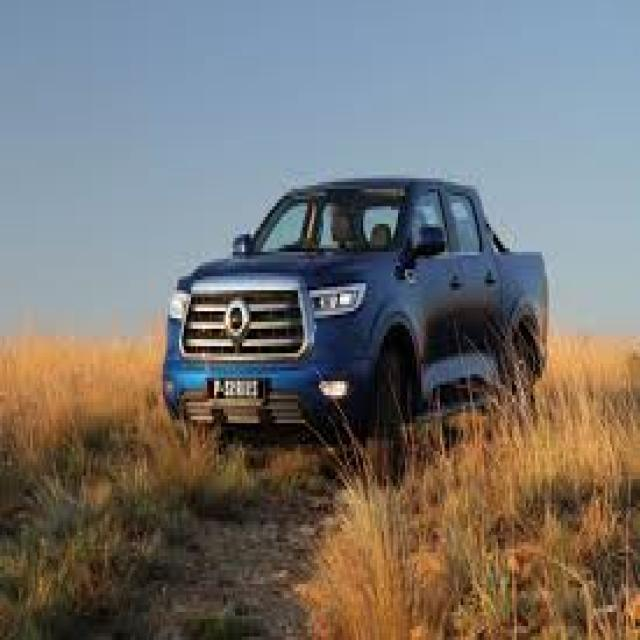Pickup Trucks: (163, 182, 551, 476)
